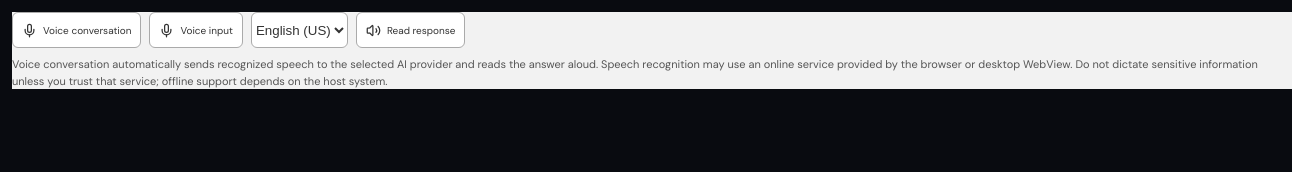
it: VoiceControls › does not open the microphone for conversation when speech synthesis is unavailable
This screenshot has width=1292, height=172.
What coordinates should you click on to do the following:
click the button with aria-label "Start voice conversation"
I would click on:
 (77, 30)
Its box is left=12, top=12, right=141, bottom=48.
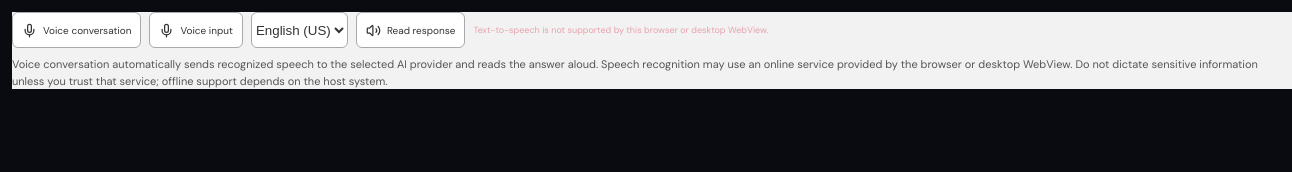
expect the text "Text-to-speech is not supported" is shown: met, box left=474, top=24, right=768, bottom=36
